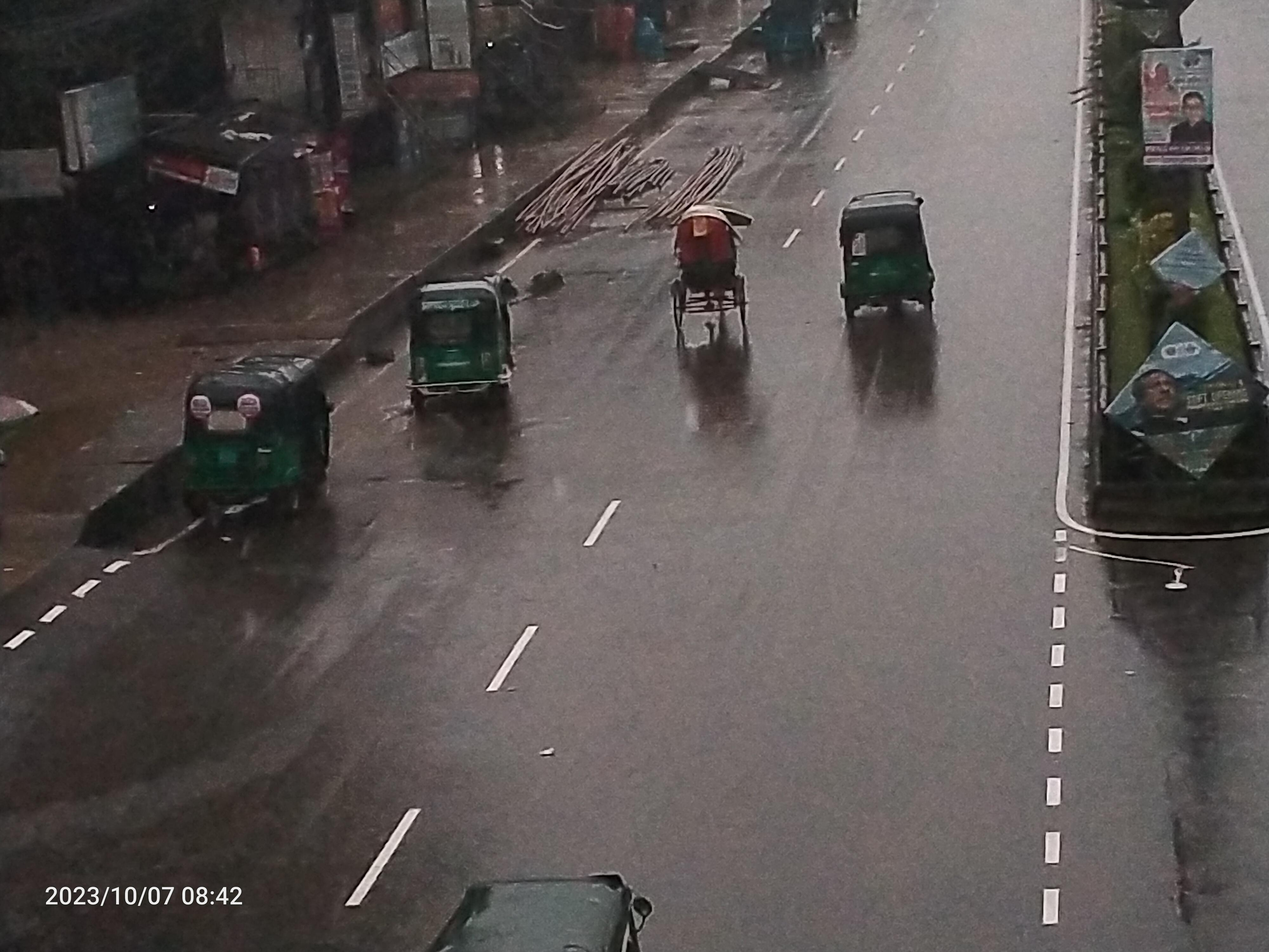Car: (660, 163, 779, 376)
Truck: (742, 0, 851, 95)
